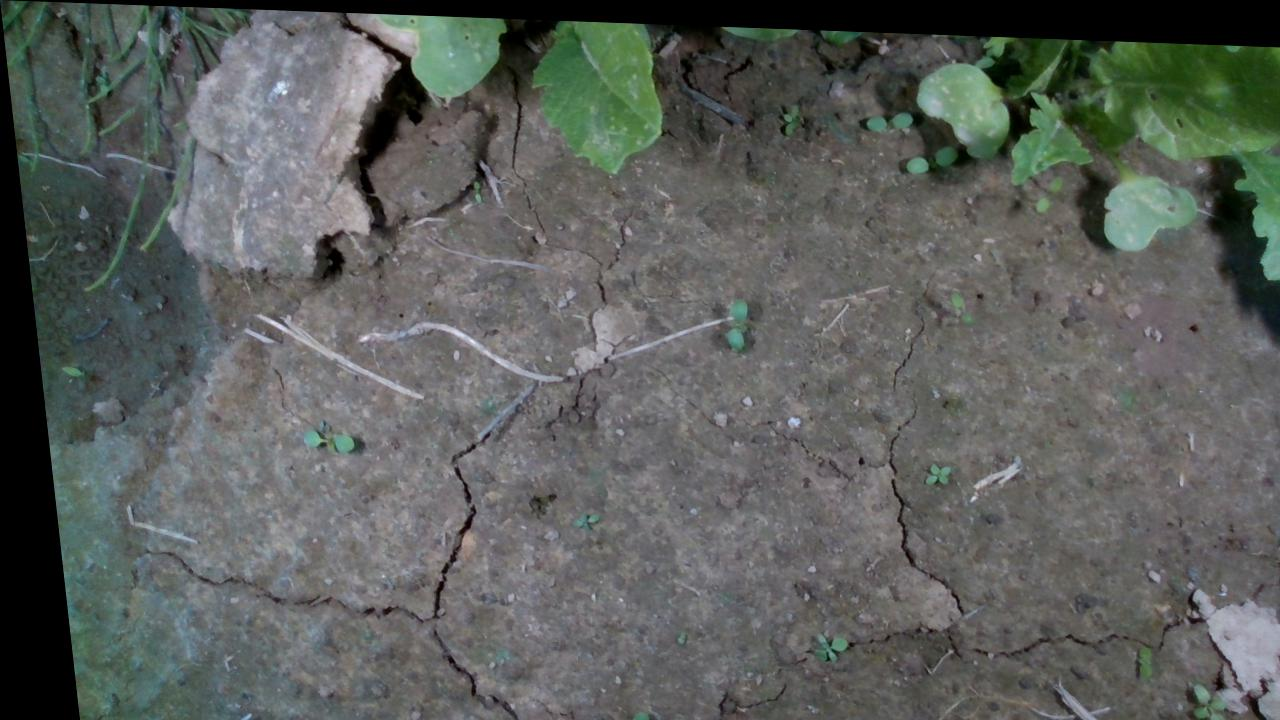weed: (1169, 672, 1215, 719), (714, 289, 746, 348), (899, 136, 956, 168), (288, 424, 346, 453), (796, 625, 835, 659), (861, 101, 912, 126), (776, 94, 799, 131), (911, 452, 942, 479), (1119, 635, 1140, 671), (466, 174, 477, 200)
